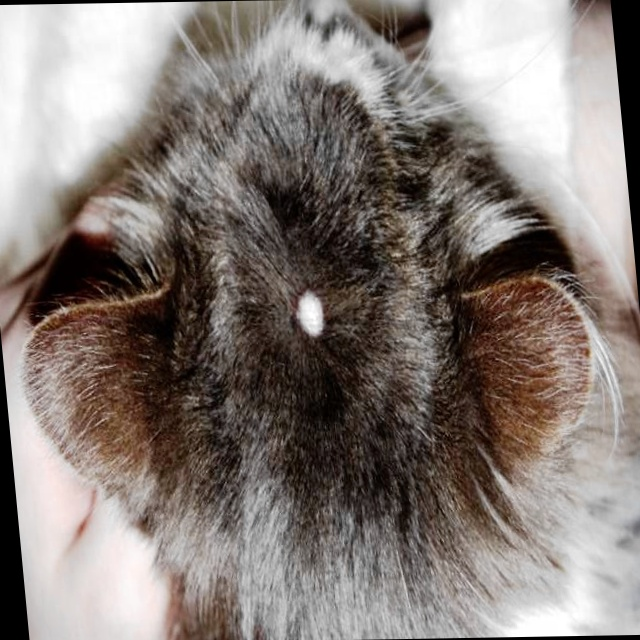lump_and_bump: (294, 290, 324, 342)
